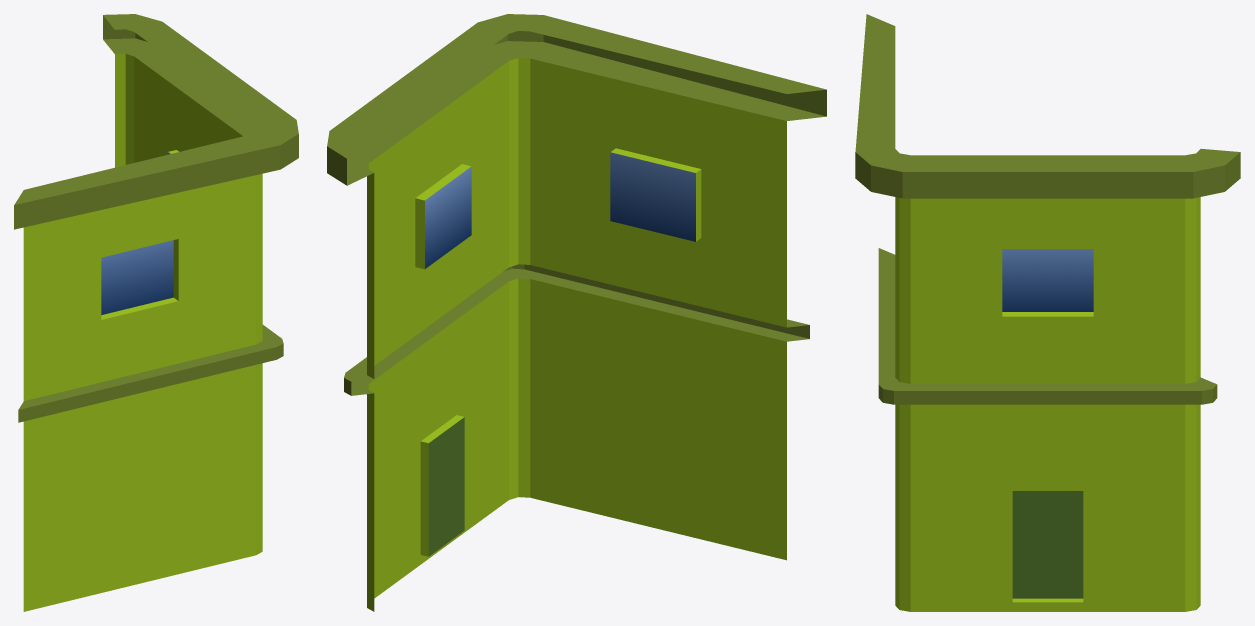
The model's file is green_house.fbx.
3 views of the same model, side by side, from view 1: azimuth 30°, elevation 25°; view 2: azimuth 150°, elevation 25°; view 3: azimuth 270°, elevation 25° (orthographic). The views are drawn at different scales.
Parts seen in each view (by area): view 1: green_house; view 2: green_house; view 3: green_house.
Part boxes in pixels (box(x1,y1,x2,y2)): green_house: box(14, 14, 298, 611); green_house: box(327, 14, 826, 611); green_house: box(855, 14, 1240, 611).
Size of the model in its own units: 924 by 1245 by 951.
Materials: 1 (1 with a texture image).
